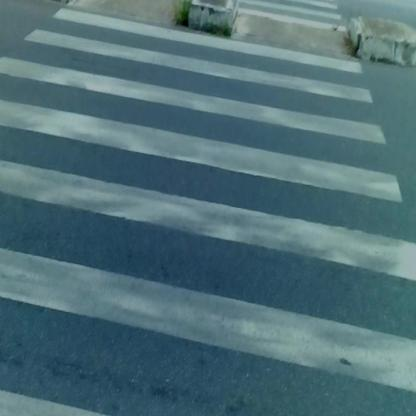crosswalk: (2, 57, 383, 416)
